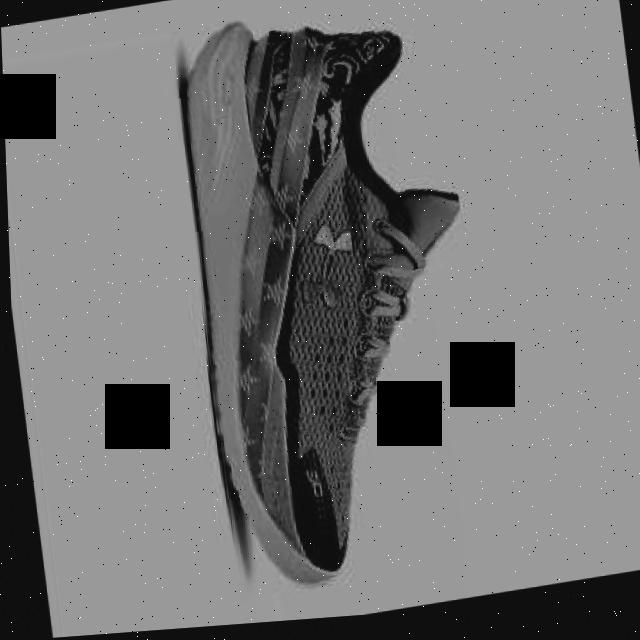shoe: (165, 0, 499, 607)
